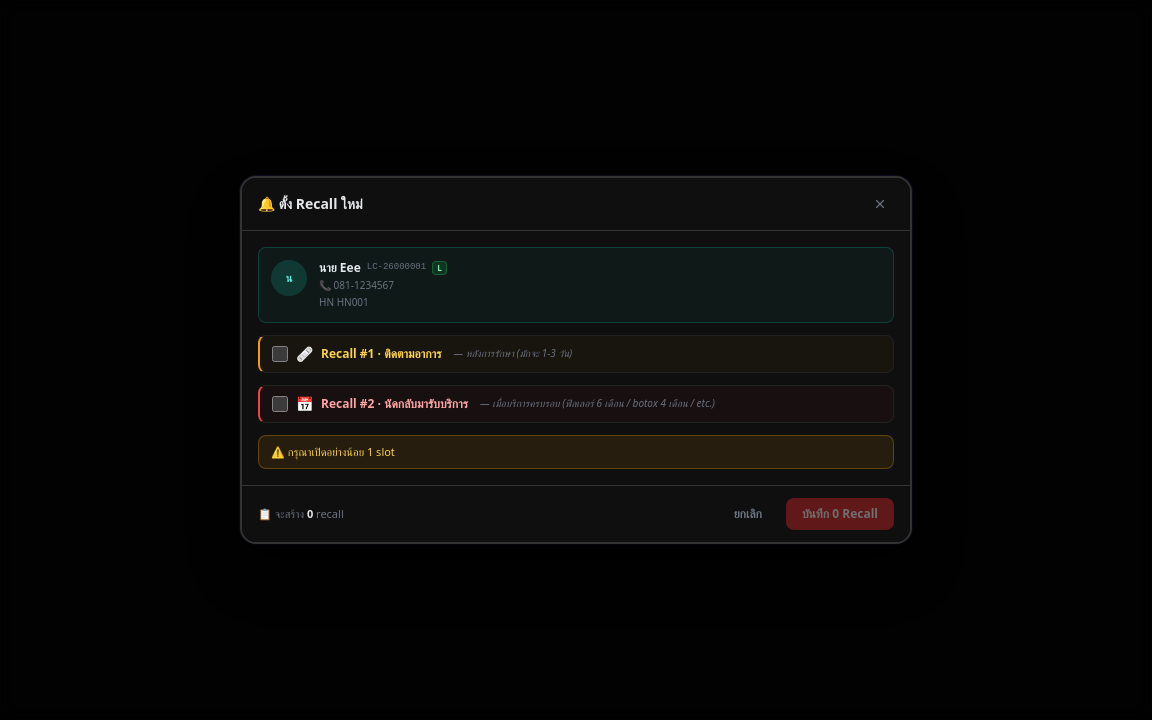
Test case: Phase 29 · M1 RecallCreateModal slot toggle behavior › M1.4 toggle OFF hides body
This screenshot has width=1152, height=720.
What coordinates should you click on to do the following:
click the checkbox with test id "recall-slot-aftercare-toggle"
I would click on:
 (280, 354)
Its box is [272,346,288,362].
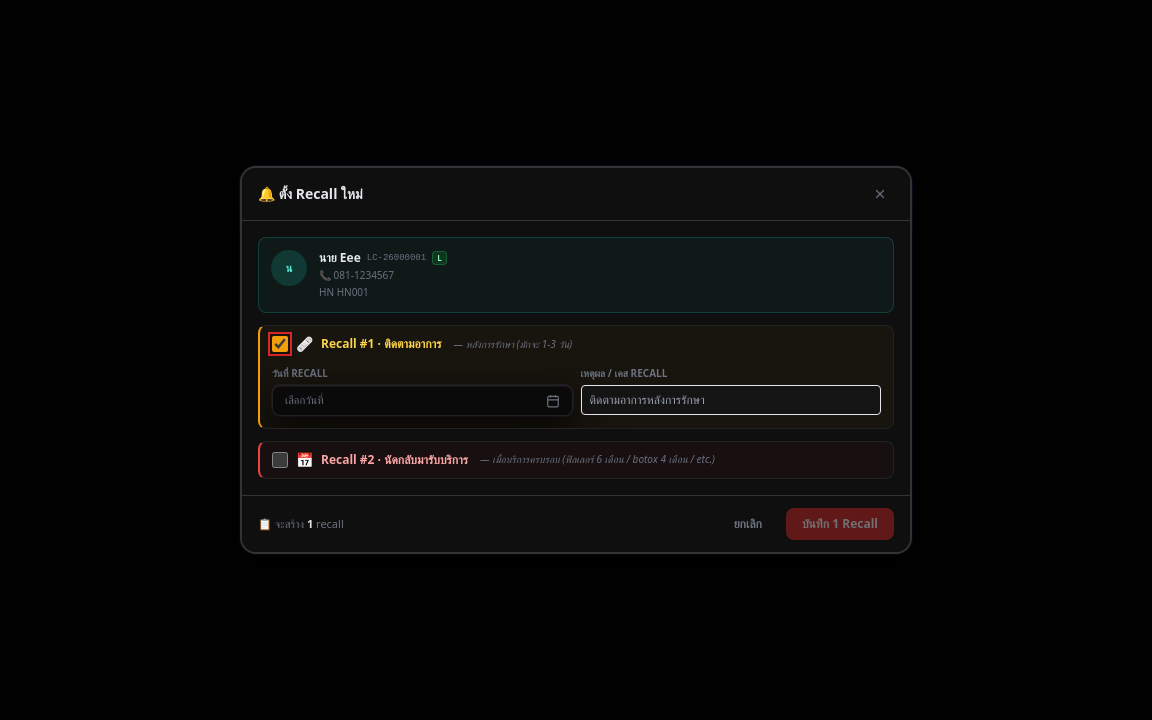
What coordinates should you click on to do the following:
click the checkbox with test id "recall-slot-aftercare-toggle"
I would click on:
 (280, 344)
Its box is [272,336,288,352].
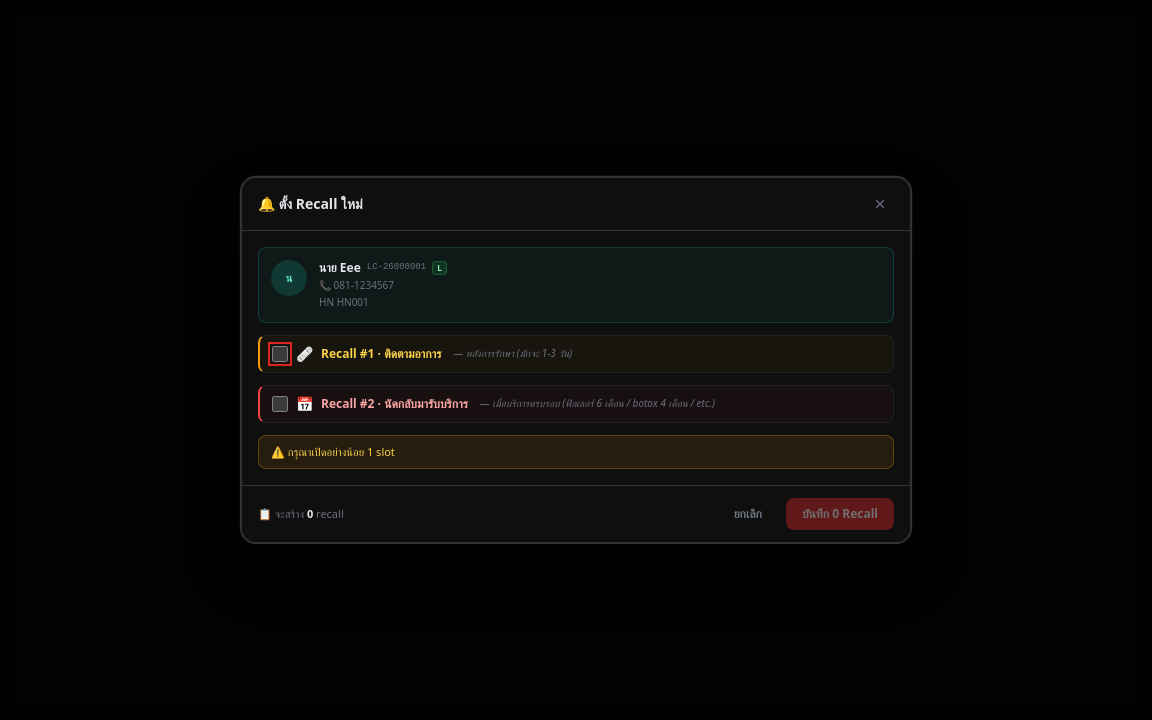
Expected: the field with test id "recall-slot-aftercare-reason" is gone
